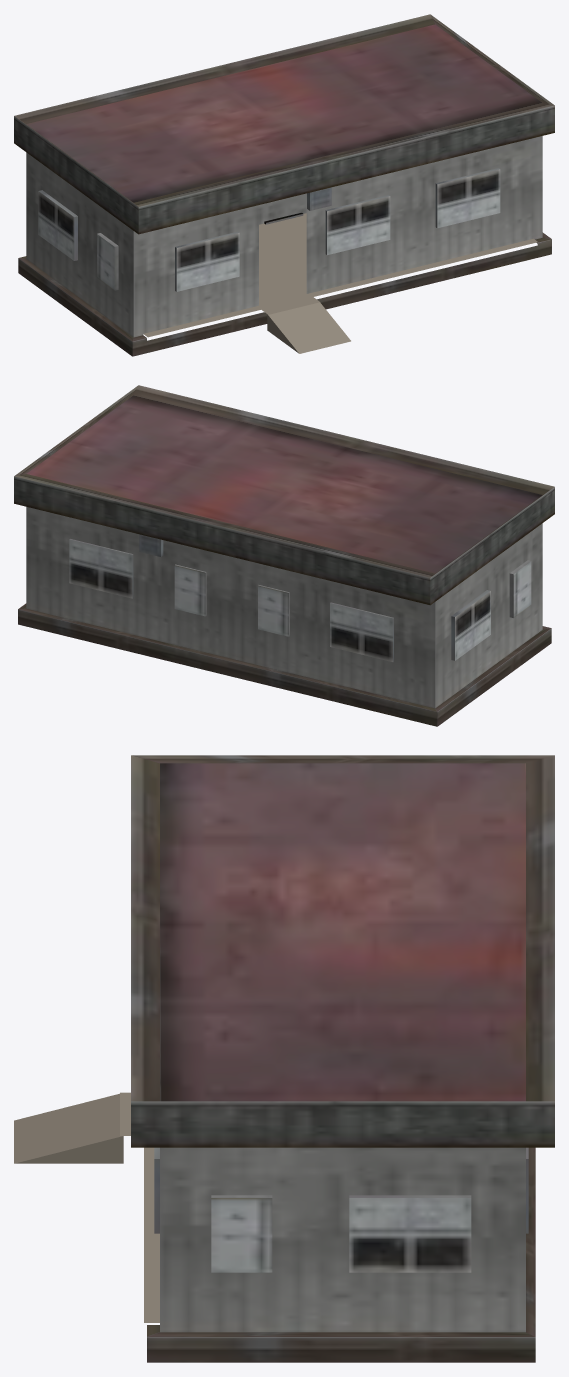
Rendered from ind-office-trailer.access-v2.lod1.glb.
3 renders of one model, top to bottom at view 1: azimuth 30°, elevation 25°; view 2: azimuth 150°, elevation 25°; view 3: azimuth 270°, elevation 25°, orthographic. The views are drawn at different scales.
Parts seen in each view (by area): view 1: Industrial_OfficeTrailer_1_Industrial_Walls_FLR_1_0, Industrial_OfficeTrailer_1_Industrial_Trim_FLR_1_0, Walkable floors and stairs; view 2: Industrial_OfficeTrailer_1_Industrial_Walls_FLR_1_0, Industrial_OfficeTrailer_1_Industrial_Trim_FLR_1_0; view 3: Industrial_OfficeTrailer_1_Industrial_Walls_FLR_1_0, Industrial_OfficeTrailer_1_Industrial_Trim_FLR_1_0, Walkable floors and stairs.
Boxes of the visible parts, bbox=[...] form: Industrial_OfficeTrailer_1_Industrial_Walls_FLR_1_0: bbox=[14, 14, 554, 356]; Industrial_OfficeTrailer_1_Industrial_Trim_FLR_1_0: bbox=[38, 168, 500, 291]; Walkable floors and stairs: bbox=[143, 213, 537, 353]; Industrial_OfficeTrailer_1_Industrial_Walls_FLR_1_0: bbox=[14, 385, 554, 726]; Industrial_OfficeTrailer_1_Industrial_Trim_FLR_1_0: bbox=[69, 534, 531, 661]; Industrial_OfficeTrailer_1_Industrial_Walls_FLR_1_0: bbox=[131, 755, 554, 1362]; Industrial_OfficeTrailer_1_Industrial_Trim_FLR_1_0: bbox=[154, 1147, 528, 1272]; Walkable floors and stairs: bbox=[14, 1092, 159, 1322].
Bounding box in the file's own units: 11.28 × 3.93 × 7.4.
3 materials, 2 textured.
